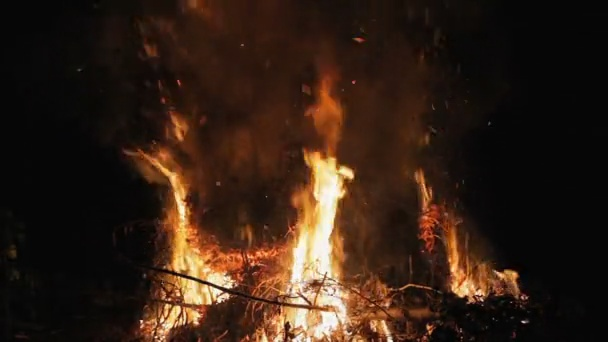fire: (150, 166, 227, 327), (288, 149, 346, 342), (445, 235, 517, 296), (371, 320, 393, 342)
